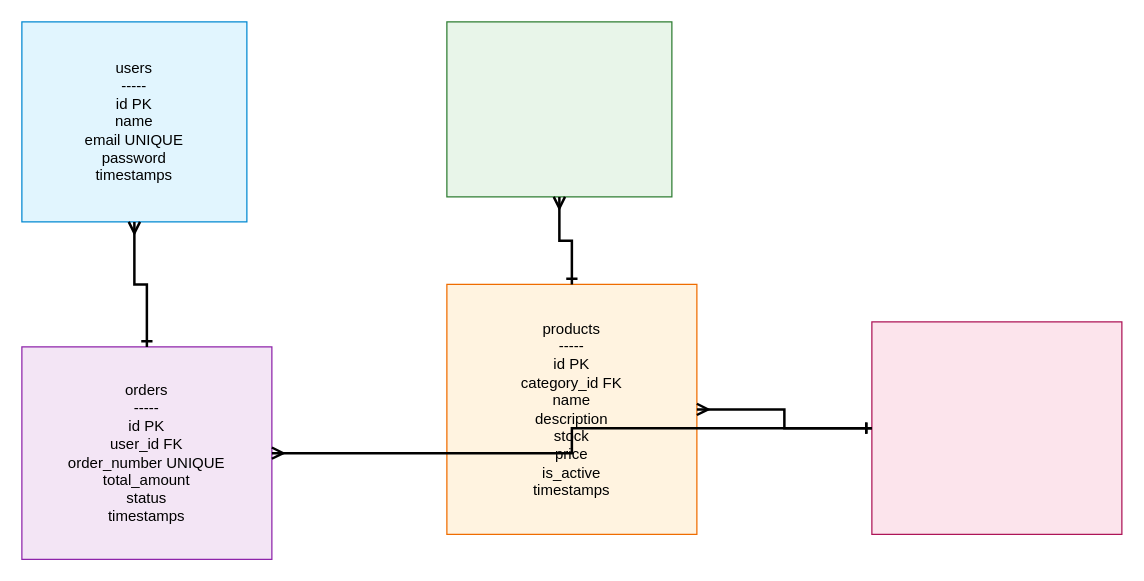
This 1144x581 diagram has some shape labels left out. The box of each missing label's shape, as (x1, y1, x2, y2) in pixels:
categories ----- id PK name slug UNIQUE timestamps: (446, 21, 672, 197)
order_items ----- id PK order_id FK product_id FK quantity price timestamps: (871, 321, 1122, 534)
